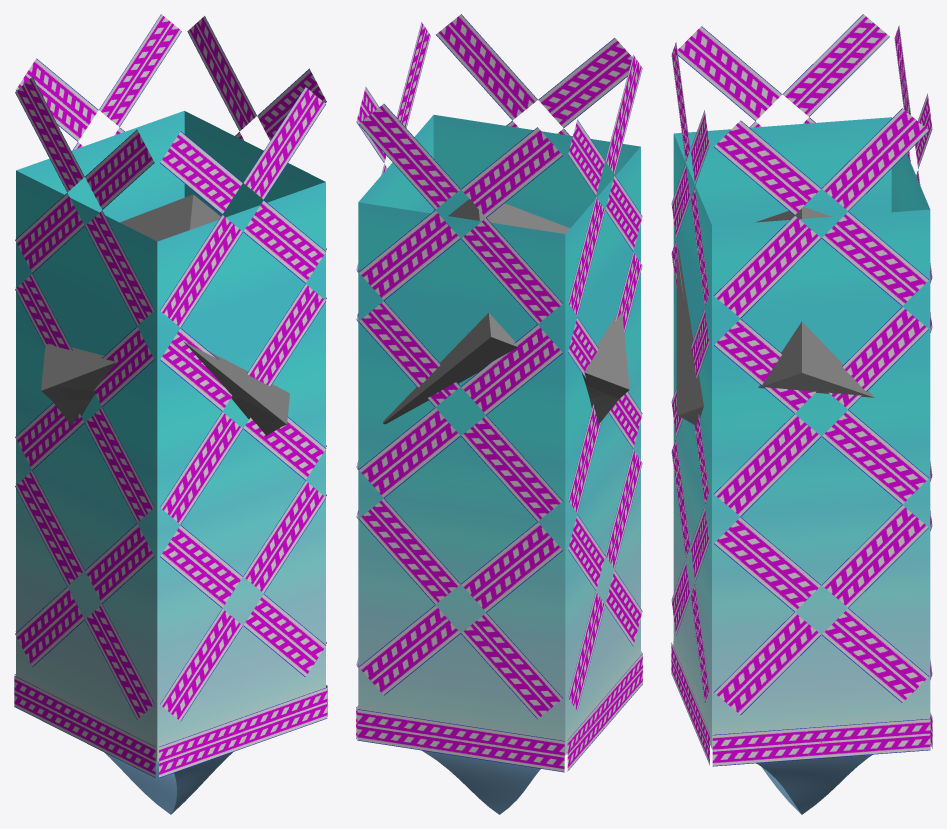
The model's file is mesh_theMachine.fbx.
3 renders of one model, left to right at view 1: azimuth 30°, elevation 25°; view 2: azimuth 150°, elevation 25°; view 3: azimuth 270°, elevation 25°, orthographic.
Parts seen in each view (by area): view 1: Holo_Warning_Pillar, Holo_PillarClose, EffetBox, EffetBox_Parts, theHole_Lid, MachineBox_001, MachineBox_008; view 2: Holo_Warning_Pillar, Holo_PillarClose, EffetBox, theHole_Lid, EffetBox_Parts, MachineBox_002, MachineBox_001; view 3: Holo_Warning_Pillar, Holo_PillarClose, theHole_Lid, EffetBox, MachineBox_007, MachineBox_008.
Part boxes in pixels (x1,y1,x2,y2): Holo_Warning_Pillar: (16,110,325,761); Holo_PillarClose: (14,14,327,777); EffetBox: (41,194,280,419); EffetBox_Parts: (43,362,286,435); theHole_Lid: (104,752,232,814); MachineBox_001: (123,194,193,241); MachineBox_008: (223,368,289,424); Holo_Warning_Pillar: (358,115,640,755); Holo_PillarClose: (356,14,642,772); EffetBox: (384,199,629,422); theHole_Lid: (421,750,540,814); EffetBox_Parts: (383,372,627,424); MachineBox_002: (446,313,517,374); MachineBox_001: (448,203,541,229); Holo_Warning_Pillar: (673,117,930,749); Holo_PillarClose: (671,14,932,766); theHole_Lid: (756,754,872,814); EffetBox: (676,207,874,397); MachineBox_007: (758,321,864,393); MachineBox_008: (676,333,703,415).
Size of the model in its own units: 134 by 367 by 116.
